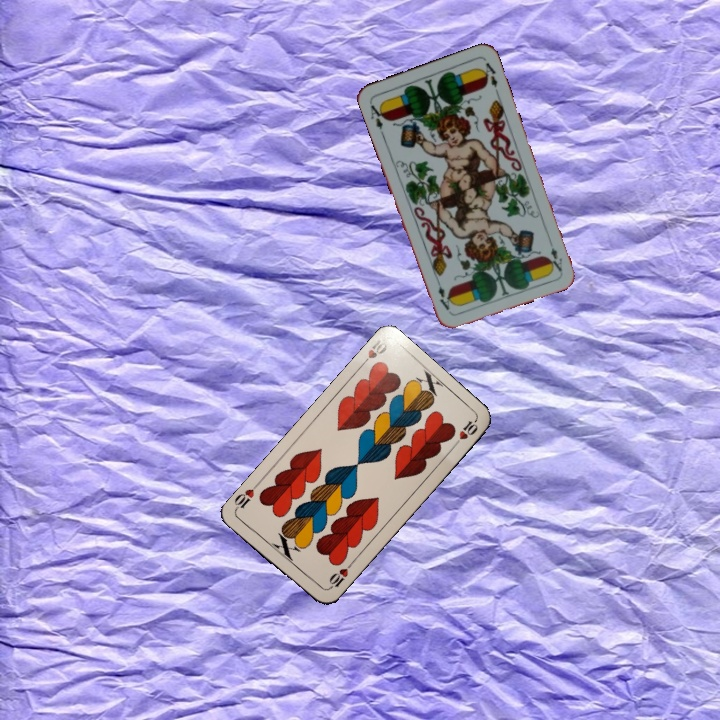EA: (544, 235, 565, 274), (366, 98, 388, 132)
H10: (356, 334, 390, 370), (323, 559, 355, 593)
